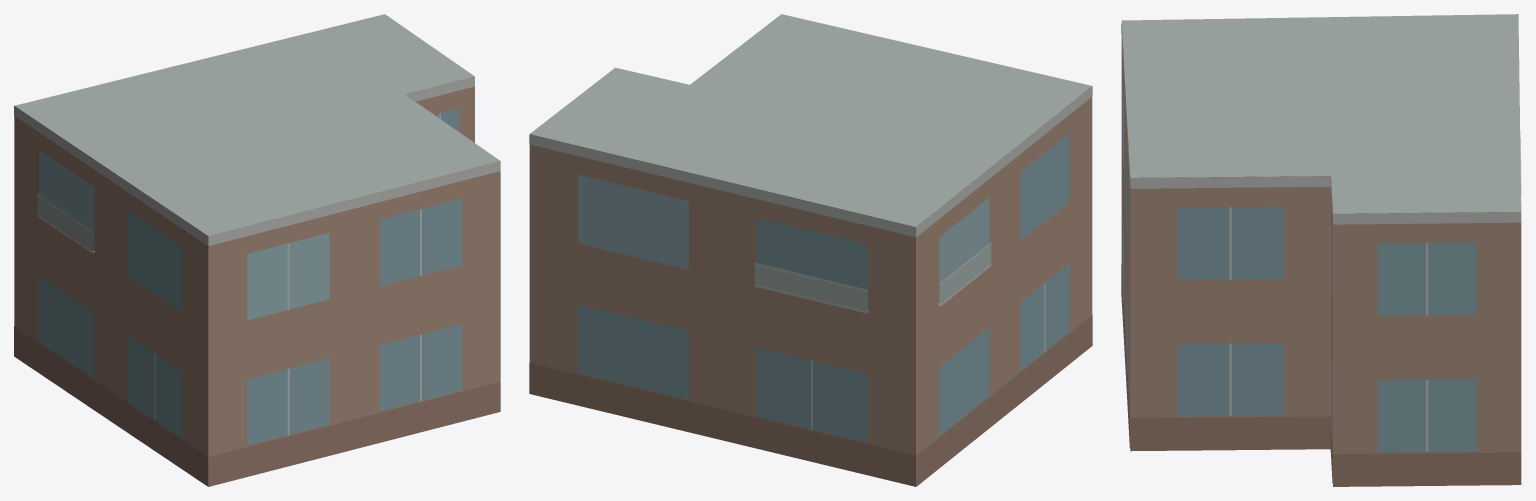
Rendered from survey-upis-32948385.glb.
3 views of the same model, side by side, from view 1: azimuth 30°, elevation 25°; view 2: azimuth 150°, elevation 25°; view 3: azimuth 270°, elevation 25° (orthographic). The views are drawn at different scales.
Visible parts, largest first — view 1: survey-upis-32948385.tmp; view 2: survey-upis-32948385.tmp; view 3: survey-upis-32948385.tmp.
Part boxes in pixels (x1=…): survey-upis-32948385.tmp: x1=14, y1=14, x2=500, y2=486; survey-upis-32948385.tmp: x1=529, y1=14, x2=1092, y2=486; survey-upis-32948385.tmp: x1=1121, y1=14, x2=1521, y2=486.
Size of the model in its own units: 9.57 by 6.1 by 8.1.
